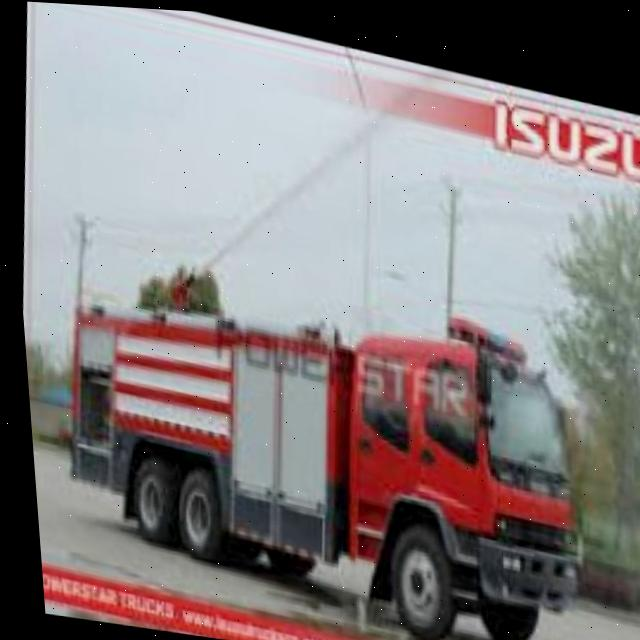emergency: (35, 238, 604, 640)
